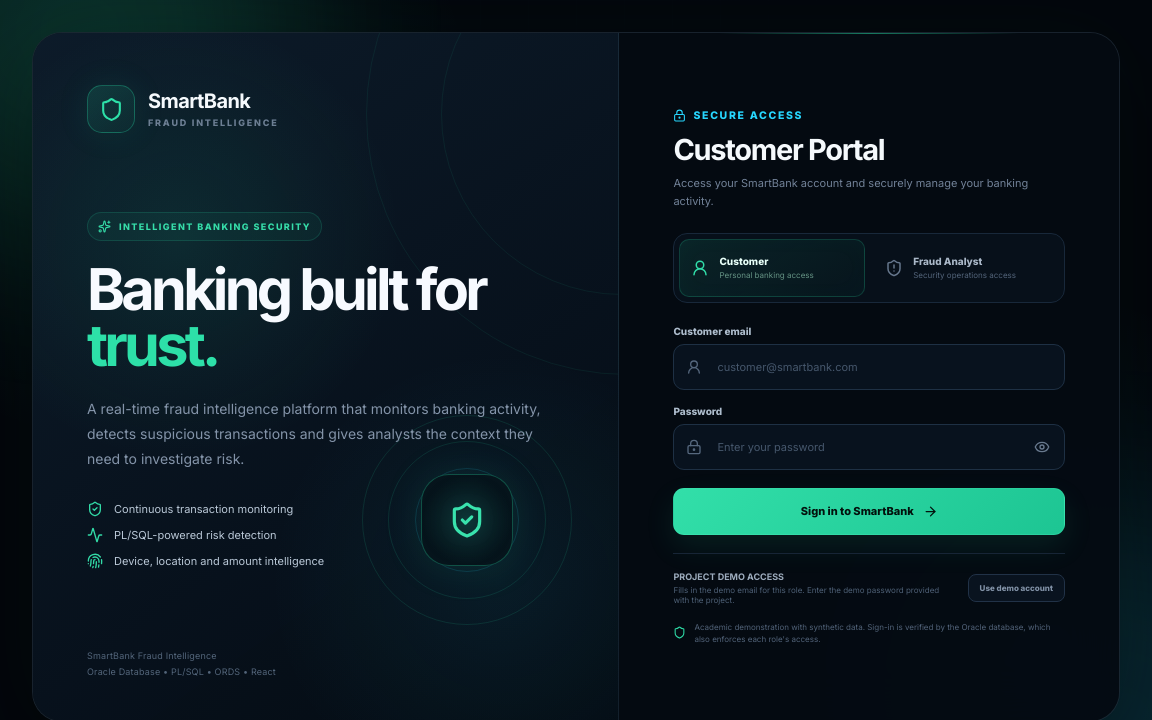
Test: login › shows the database's message for a wrong password
Type "user@smartbank.com" into the field labelled "Customer email". click: (869, 367)
box: [673, 344, 1065, 390]
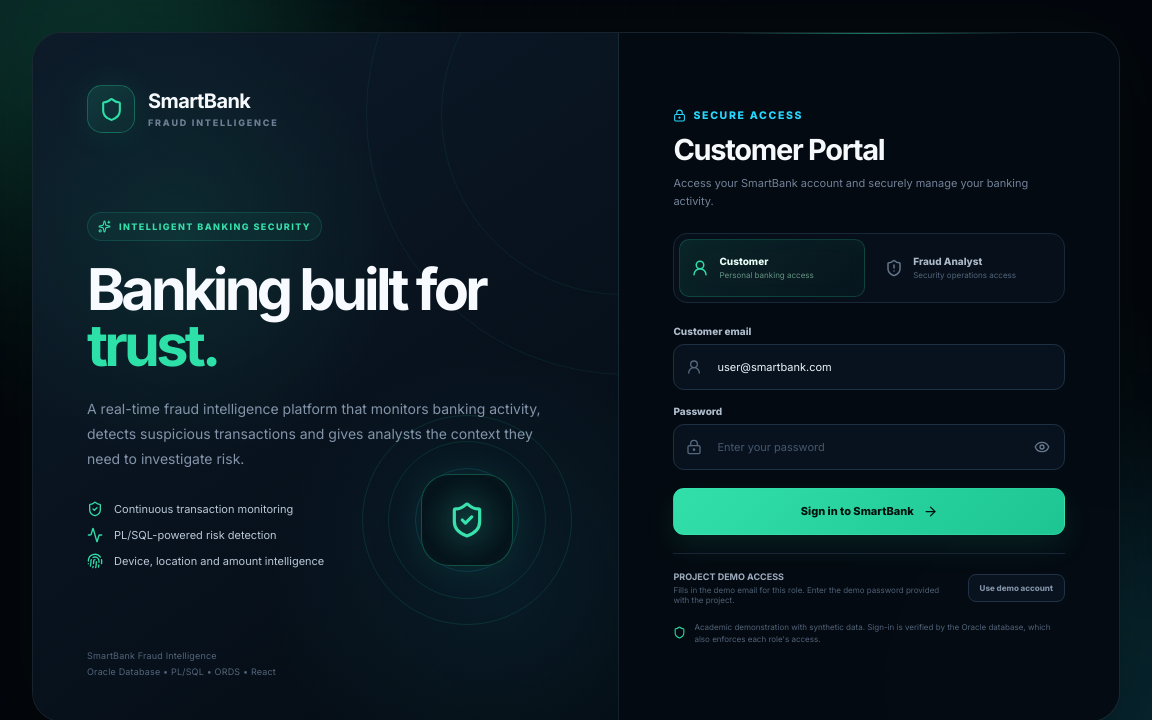
Type "wrong-password" into the password field labelled "Password". click: (869, 447)
box: [673, 424, 1065, 470]
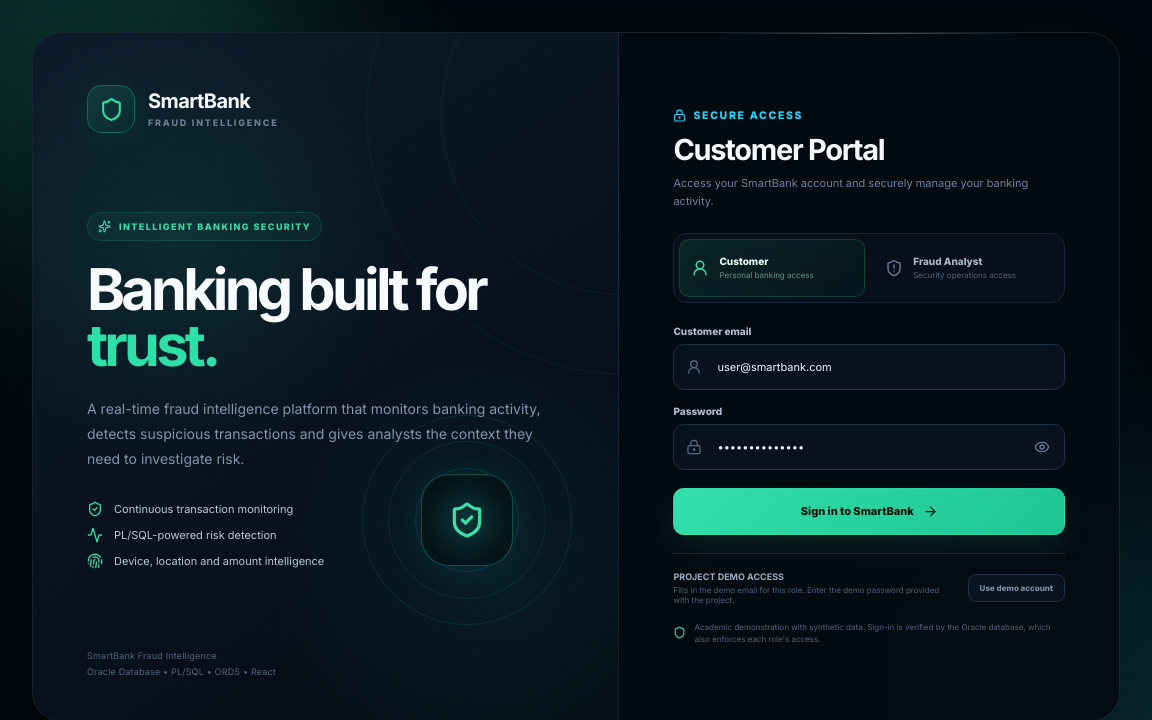
Click the button "Sign in to SmartBank". click: (869, 511)
box: [673, 488, 1065, 535]
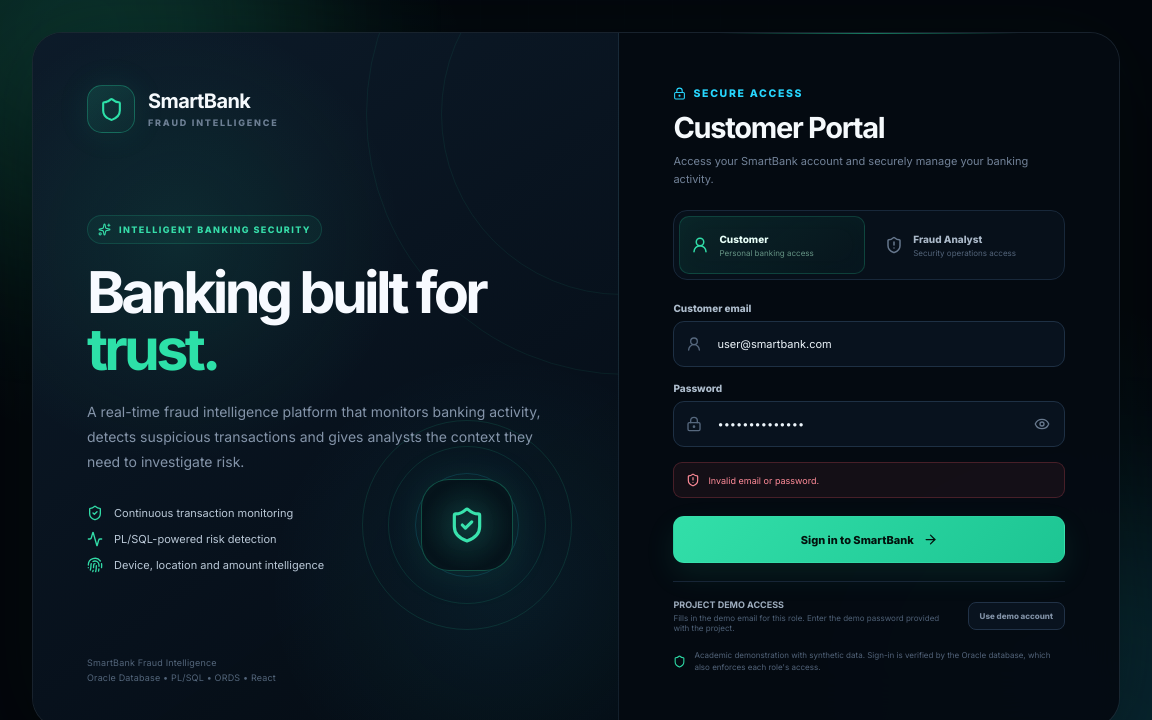
Expected: the text "Invalid email or password." is shown, [708, 475, 819, 486]
